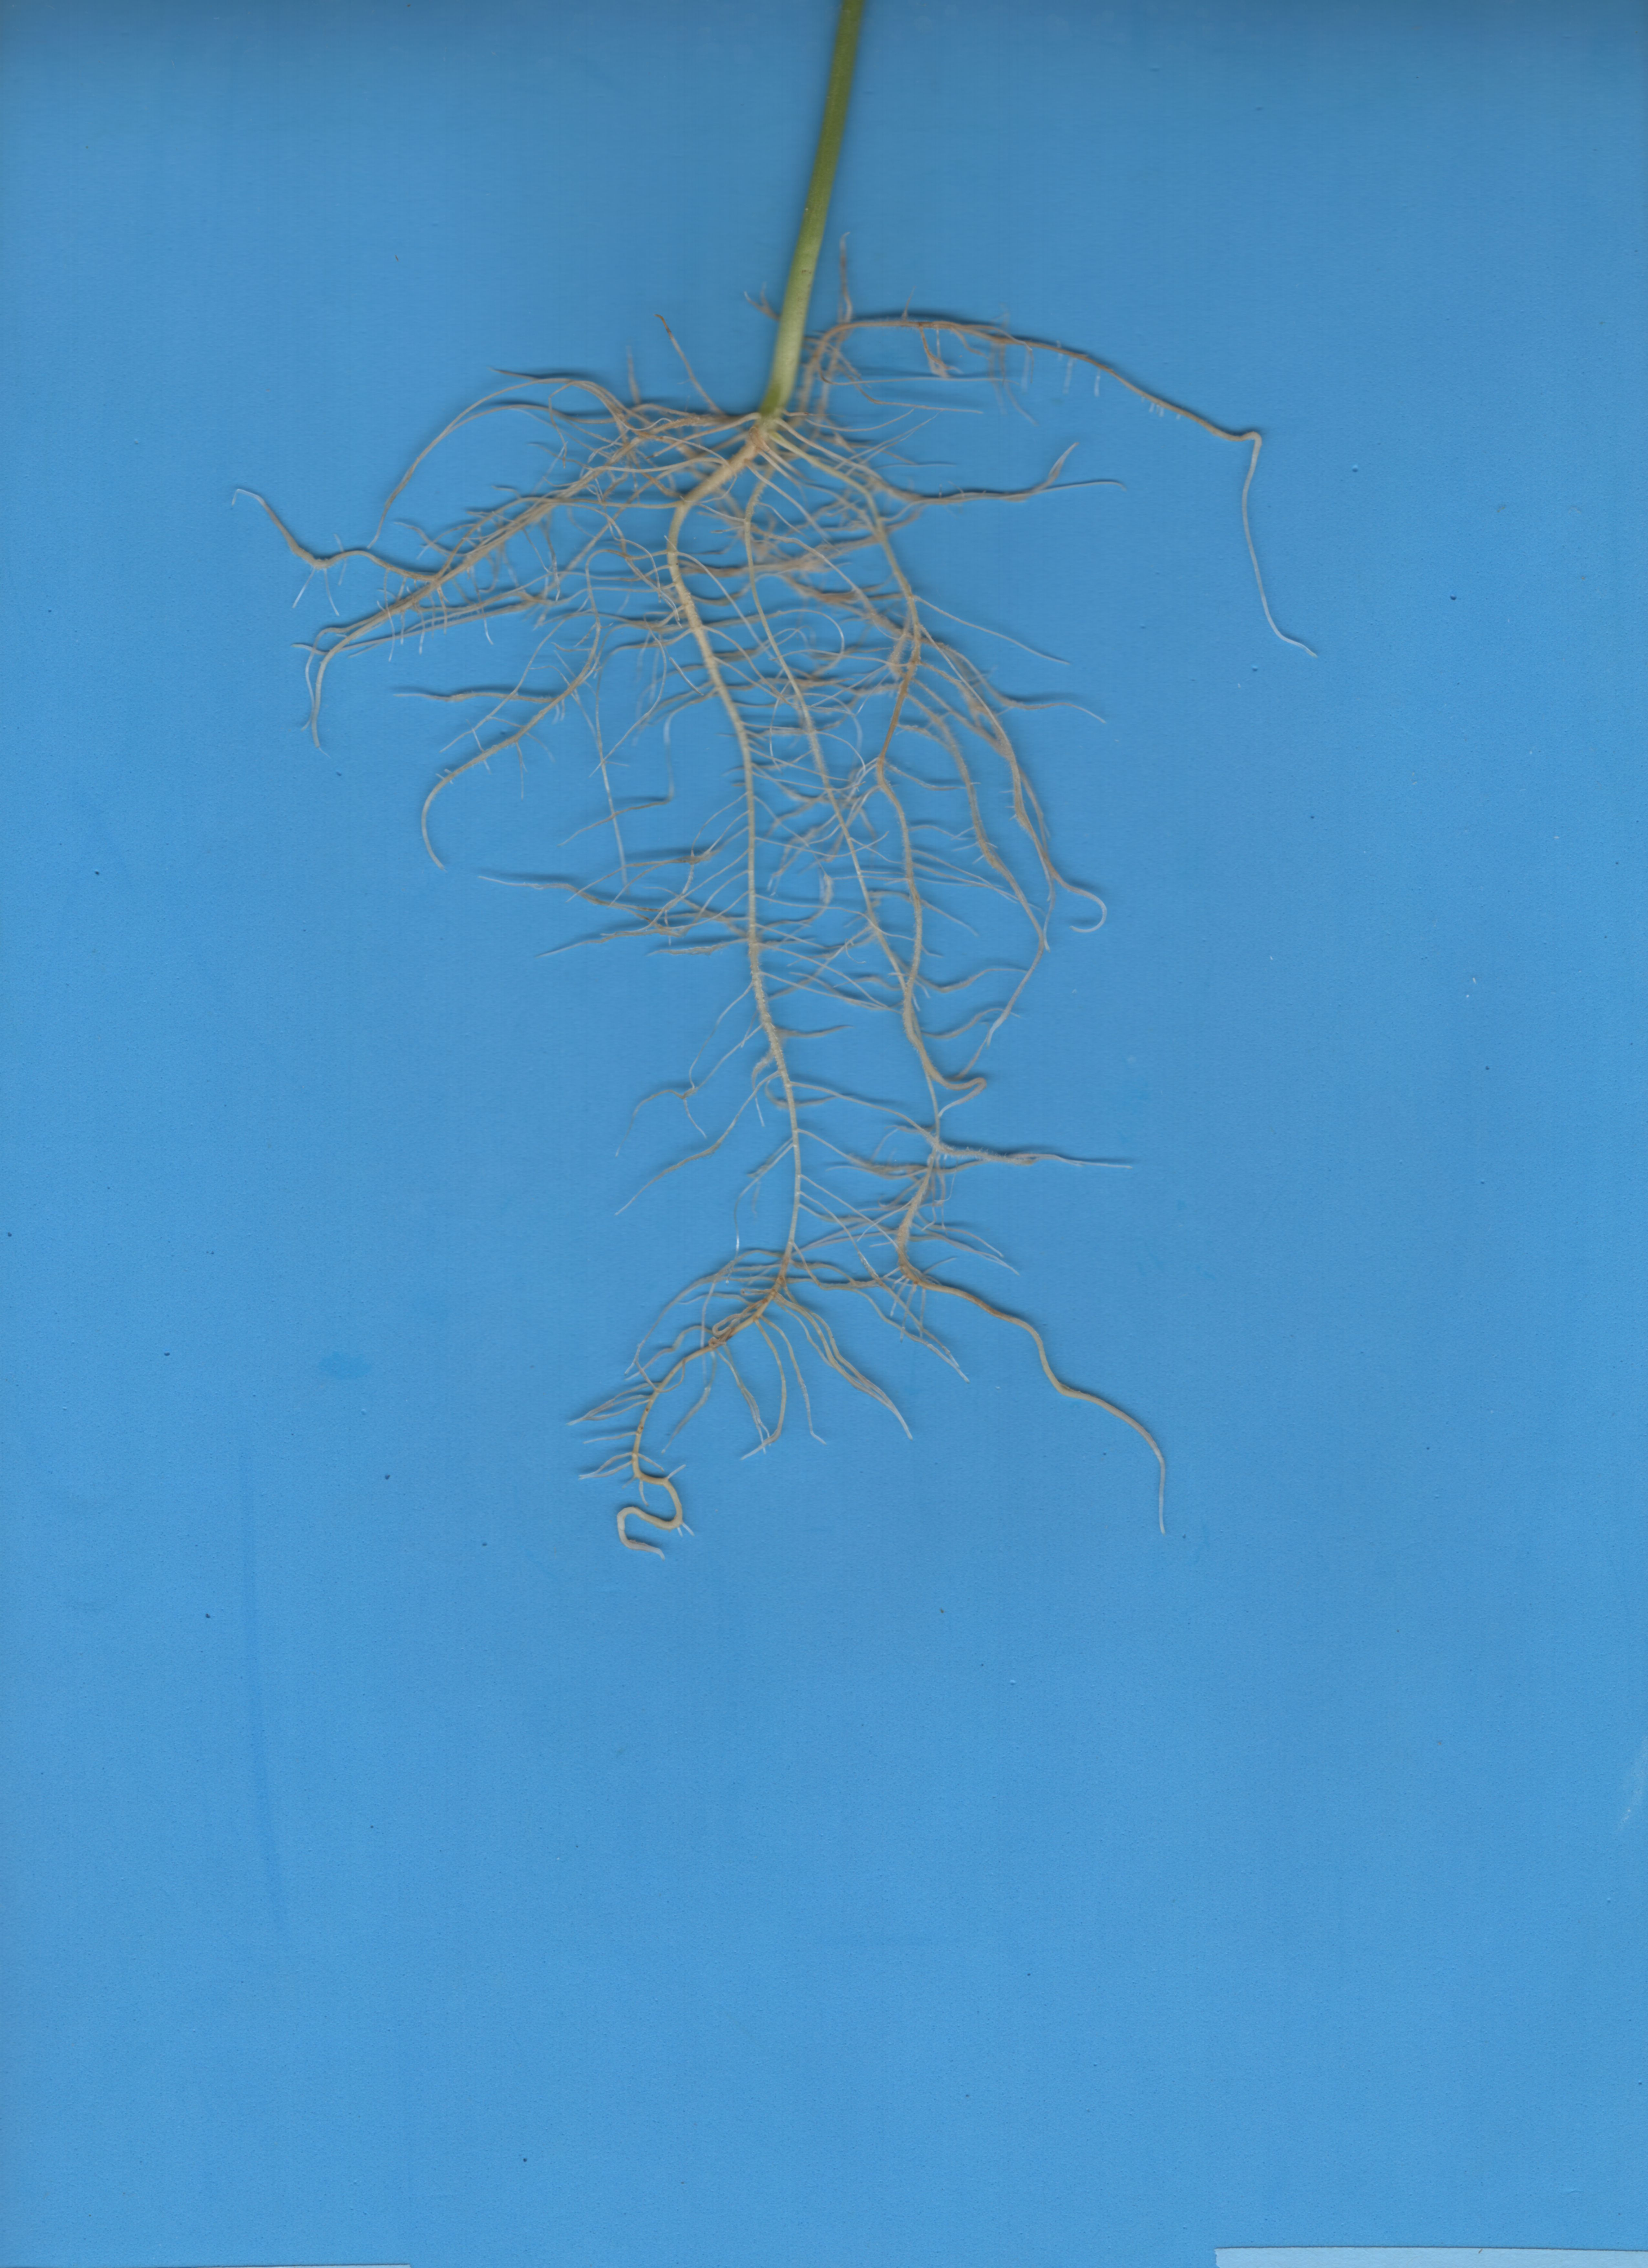CROWNGOOD: (743, 0, 931, 414)
ROOTGOOD: (227, 282, 1447, 1578)
